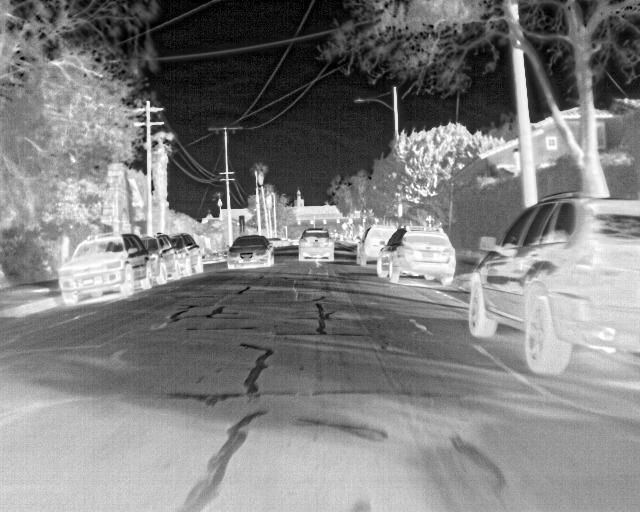car: (466, 188, 639, 377), (57, 230, 149, 308), (379, 225, 456, 286), (226, 234, 276, 271), (140, 232, 174, 284), (168, 230, 203, 274), (357, 225, 395, 263), (298, 227, 333, 261)
